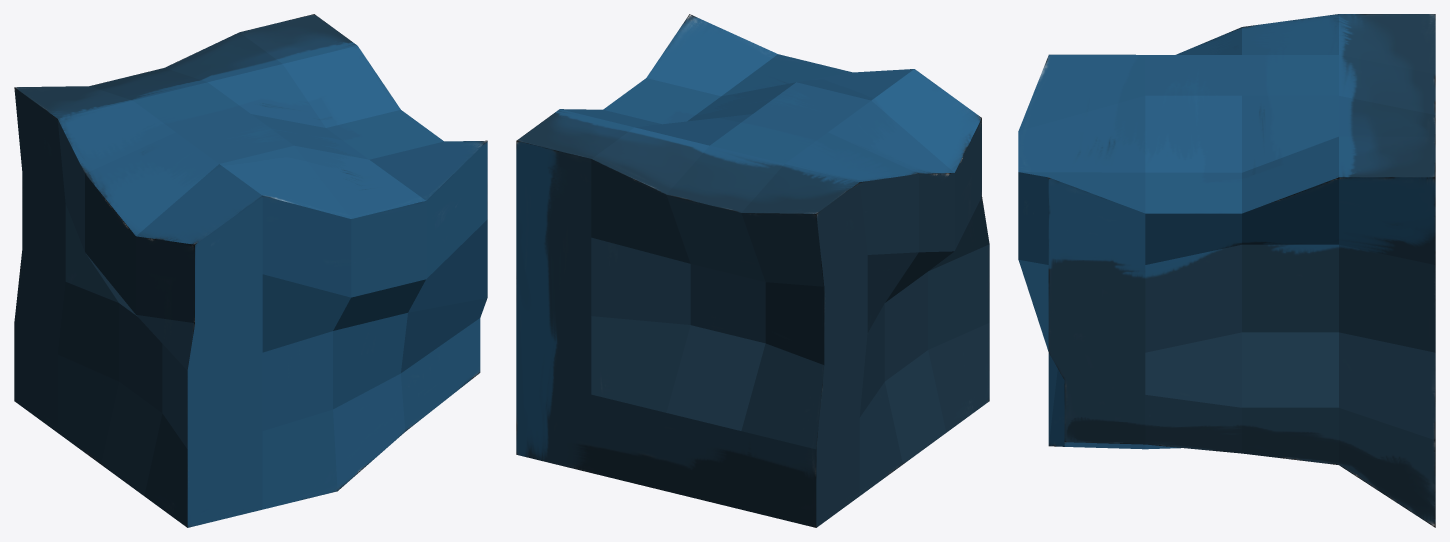
File: gube.glb
3 renders of one model, left to right at view 1: azimuth 30°, elevation 25°; view 2: azimuth 150°, elevation 25°; view 3: azimuth 270°, elevation 25°, orthographic. The views are drawn at different scales.
Parts seen in each view (by area): view 1: Cube; view 2: Cube; view 3: Cube.
Boxes of the visible parts, x1=… form: Cube: x1=14, y1=14, x2=487, y2=527; Cube: x1=516, y1=14, x2=989, y2=527; Cube: x1=1018, y1=14, x2=1435, y2=527.
Size of the model in its own units: 2.11 by 2 by 2.16.
1 material, 1 textured.
